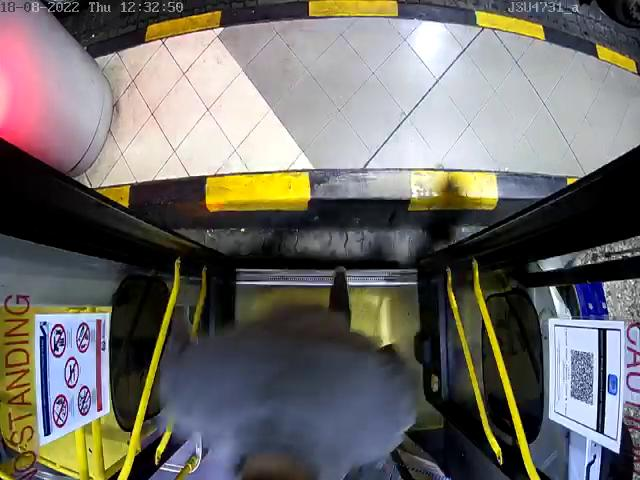open: (0, 0, 640, 157)
